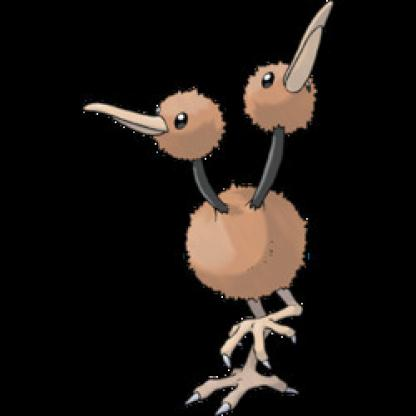Doduo: (74, 1, 344, 416)
